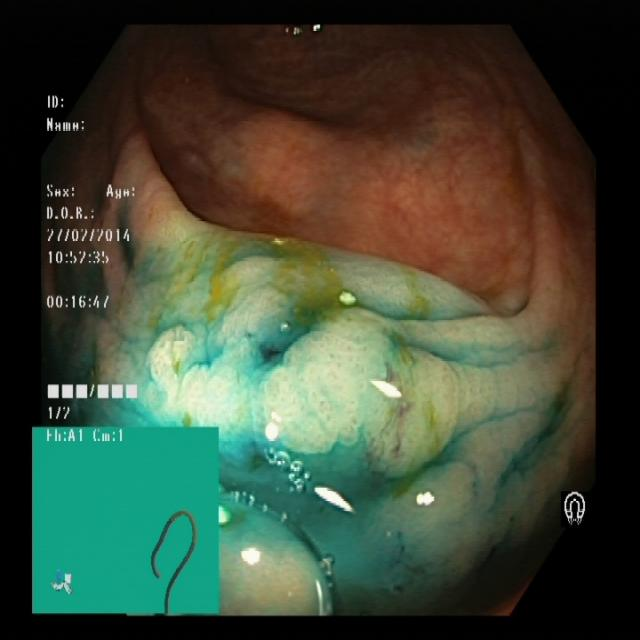diedpolyp: (115, 224, 563, 465)
location: (32, 422, 218, 616)
